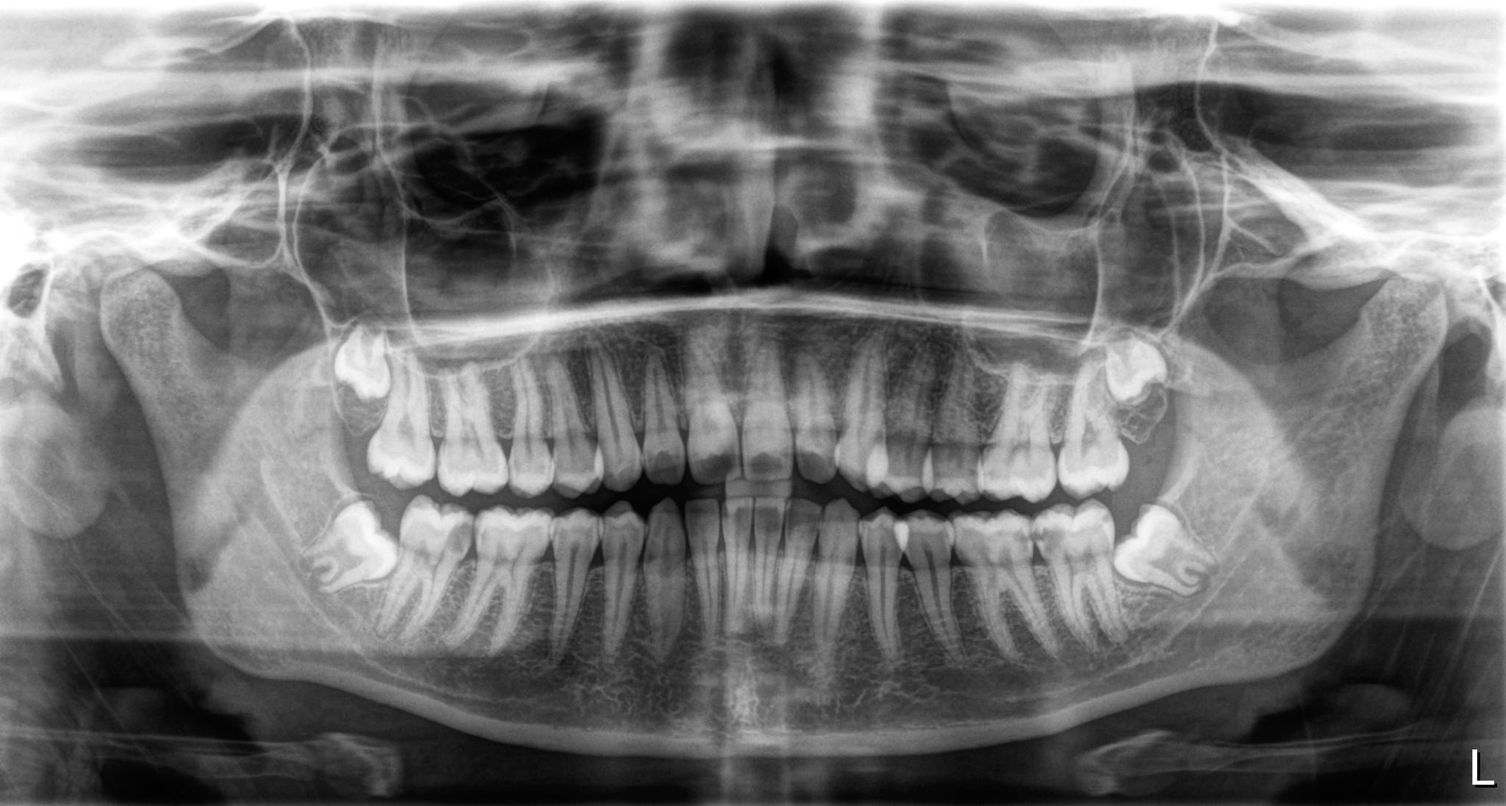Dental Caries: (643, 445, 835, 486), (436, 527, 479, 562)
Impacted Third Molar: (1123, 507, 1218, 602), (303, 500, 390, 584), (333, 327, 396, 406), (1107, 343, 1180, 409)
